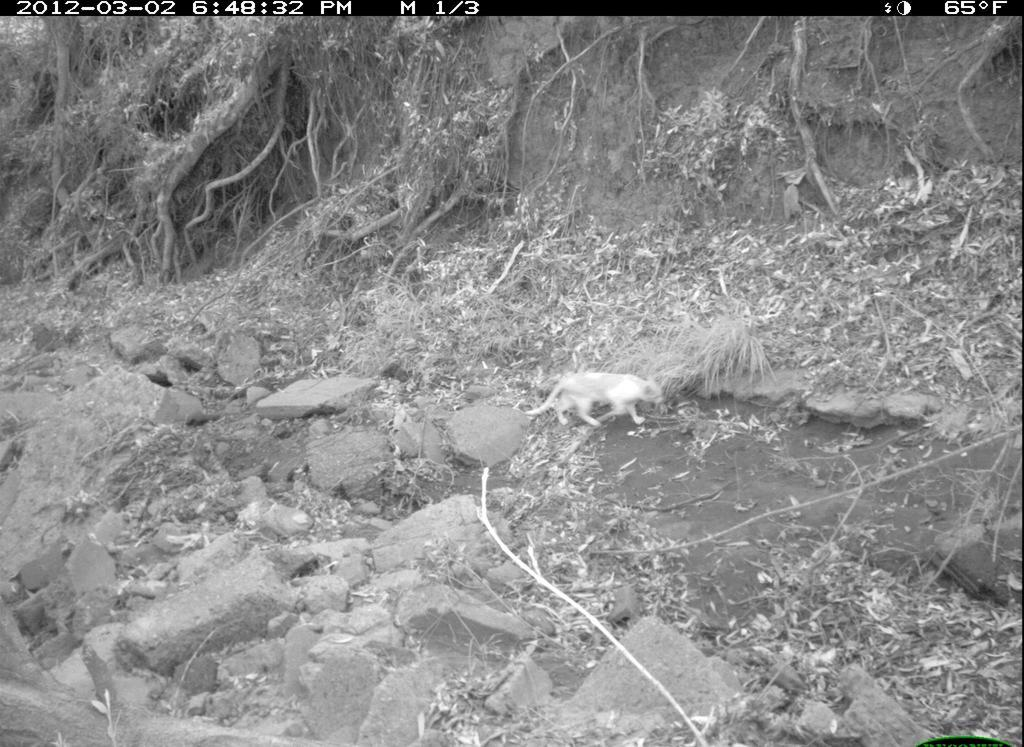cat: (523, 353, 675, 446)
